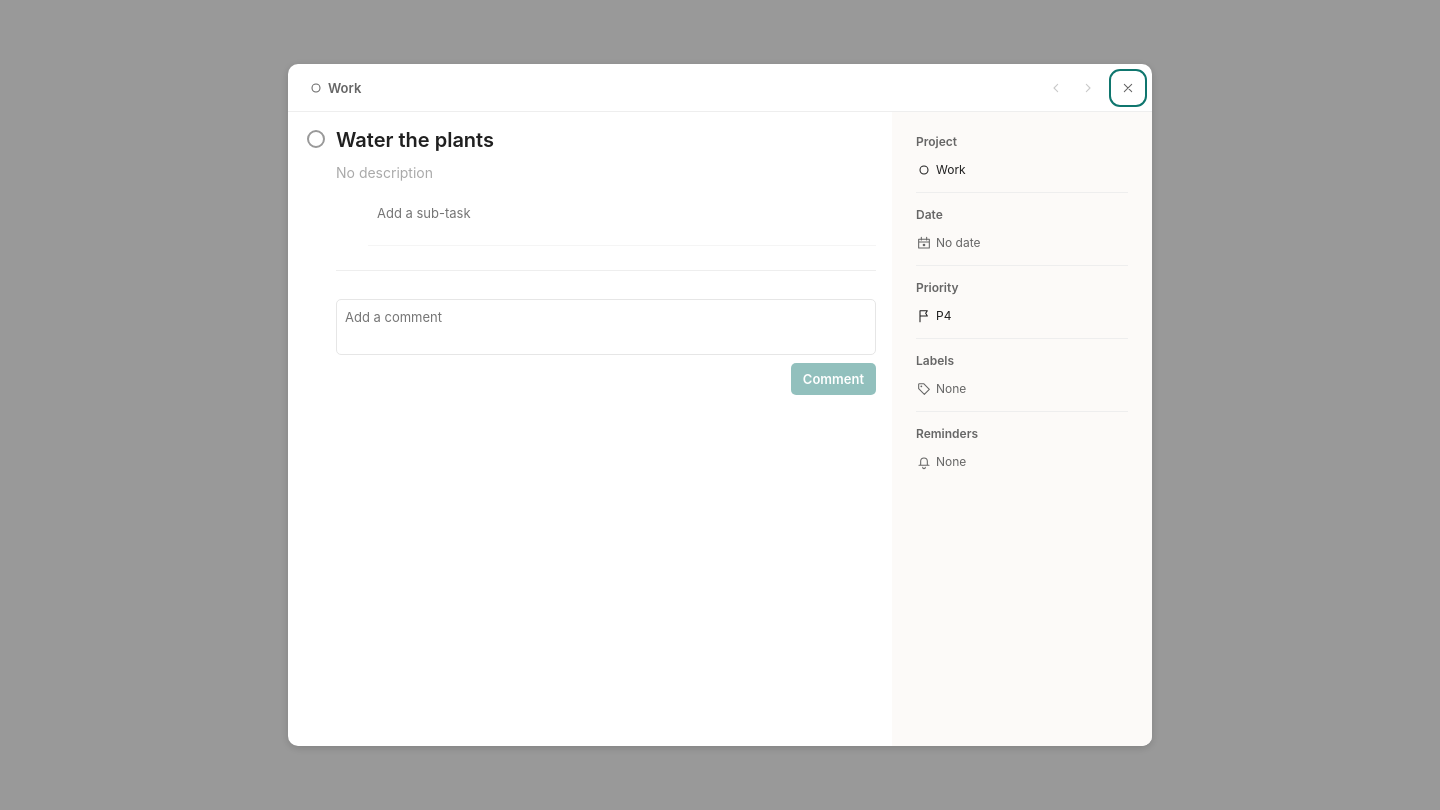
Test: the label picker › tells an instance with no labels how to get one
Click the button with aria-label "Labels: change" at (1018, 389), box [912,375,1124,403]
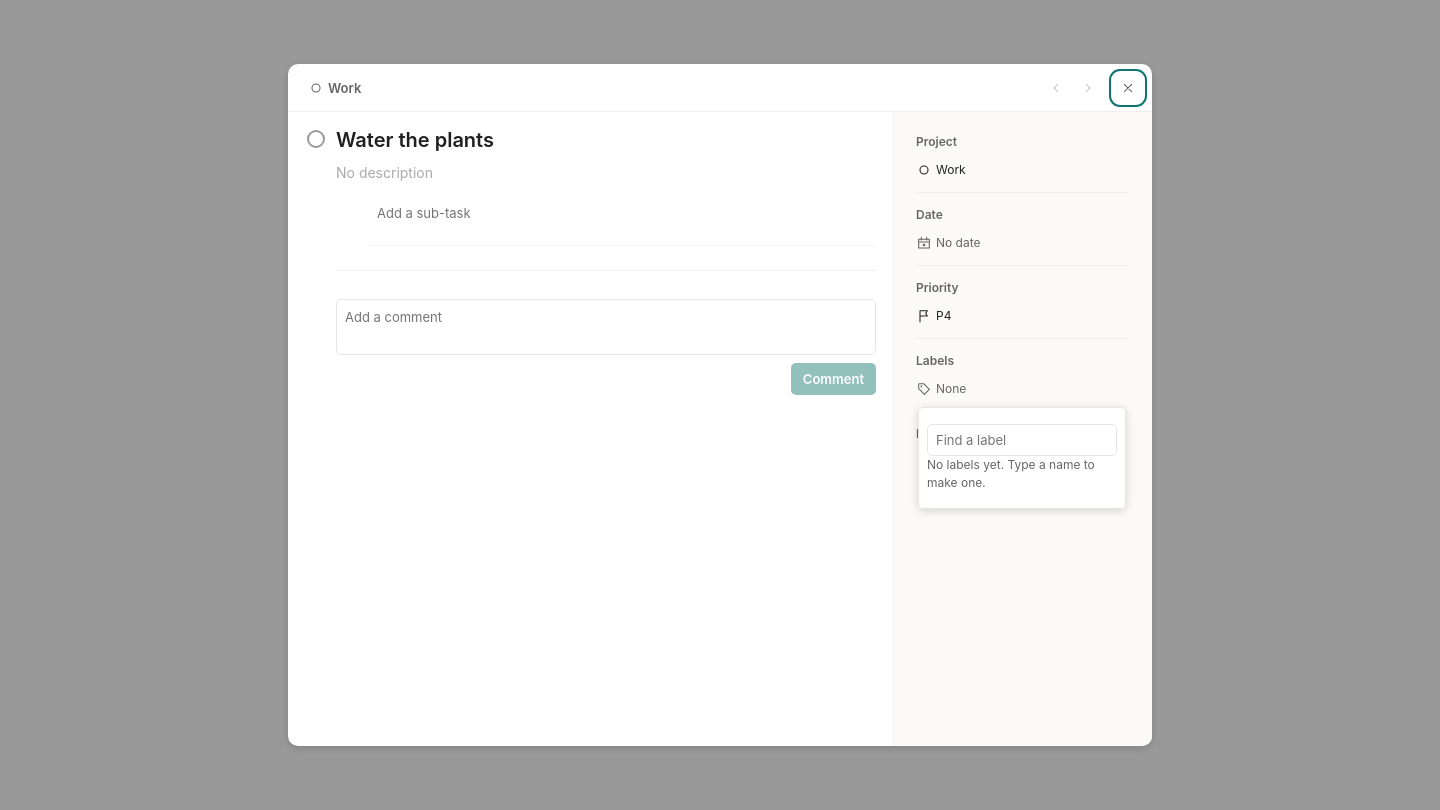
Now the text "No labels yet. Type a name to make one." is shown, box [927,456,1117,492]
